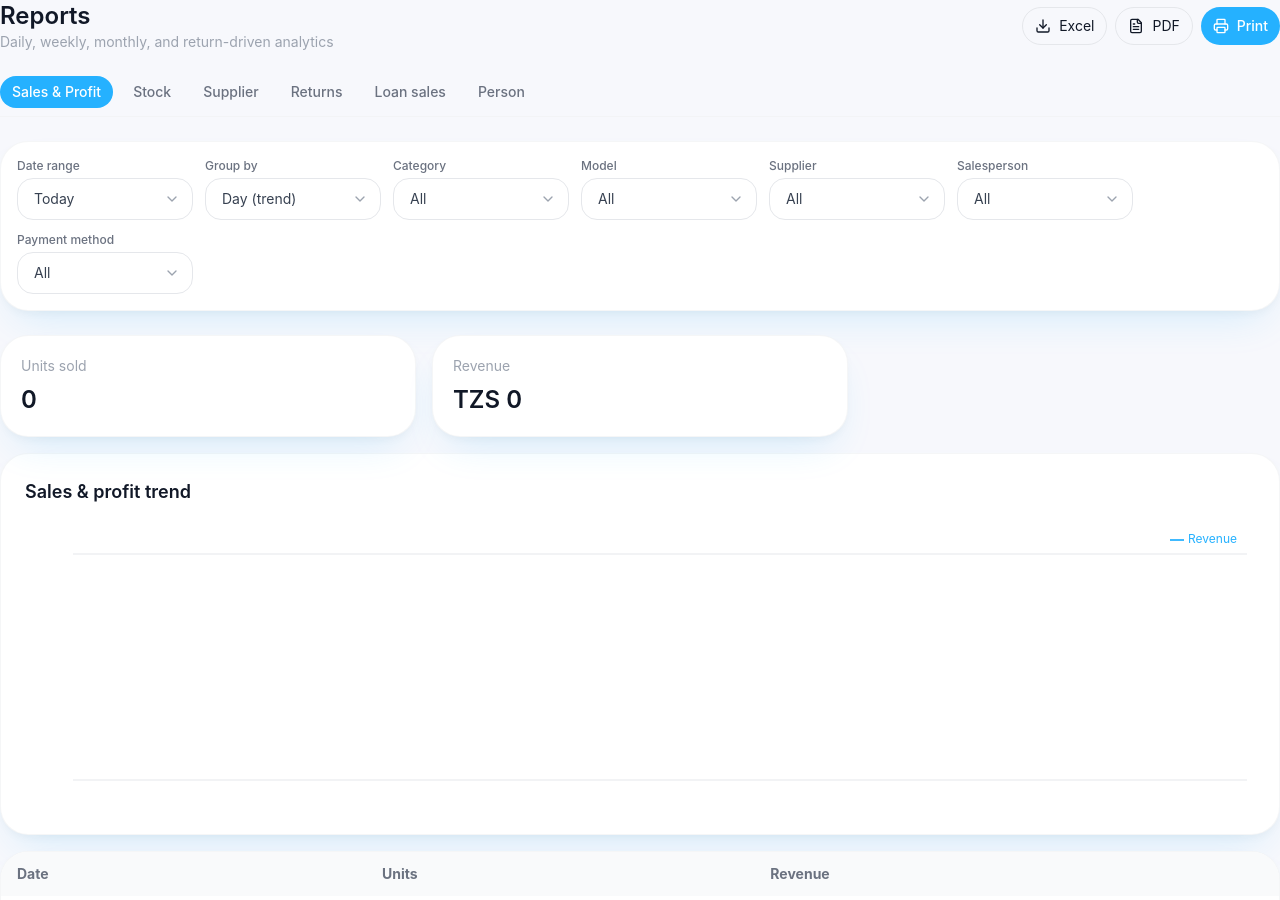
it: Reports > Loan sales tab › hides expected profit and cost without view_profit
What coordinates should you click on to do the following:
click the button "Loan sales"
I would click on:
 (410, 92)
Its box is [362,76,458,108].
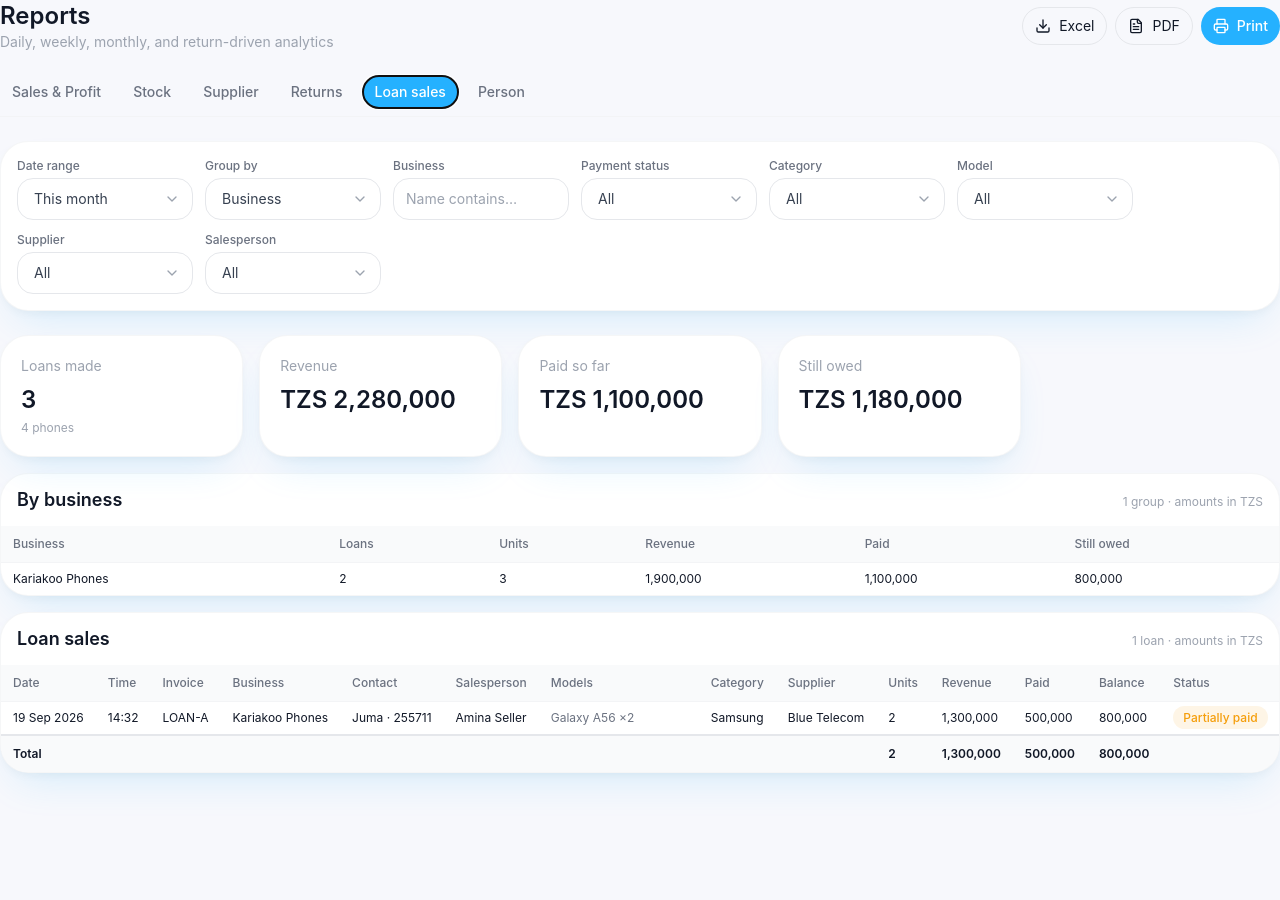
Expected: the text "Loans made" is shown, [21,357,102,374]
Expected: the column heading "Balance" is shown, [1087,665,1161,702]
